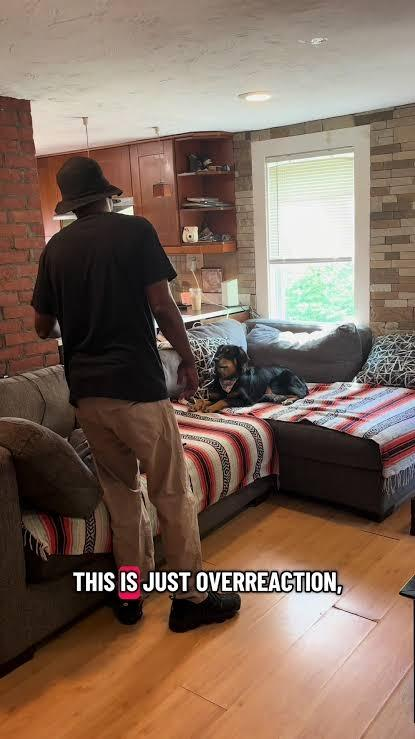adult_dog: (169, 342, 310, 414)
non-dog: (28, 156, 241, 633)
